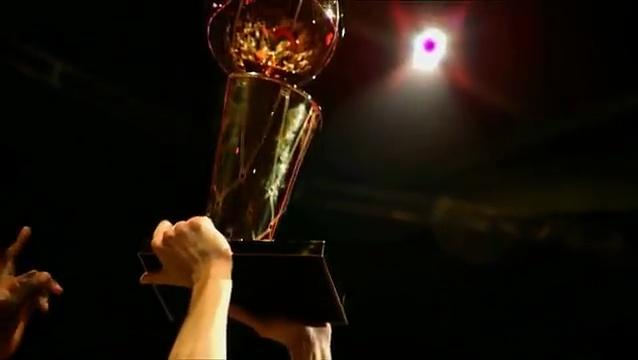Ball: (191, 0, 352, 78)
